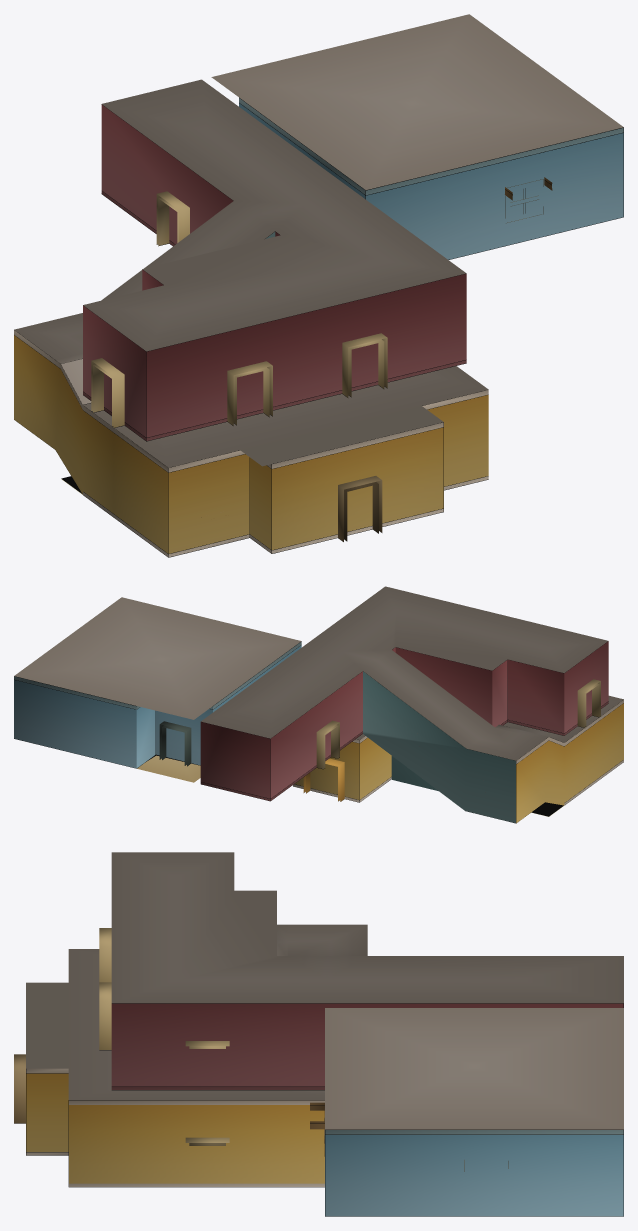
The model's file is Kyle House.fbx.
3 views of the same model, one above another, from view 1: azimuth 30°, elevation 25°; view 2: azimuth 150°, elevation 25°; view 3: azimuth 270°, elevation 25° (orthographic). The views are drawn at different scales.
Parts seen in each view (by area): view 1: A1_floor2_ceiling_geo, A1_floor2_geo, A1_floor1_geo, A1_floor1_ceiling_geo; view 2: A1_floor2_ceiling_geo, A1_floor2_geo, A1_floor1_geo, A1_floor1_ceiling_geo; view 3: A1_floor2_ceiling_geo, A1_floor2_geo, A1_floor1_geo, A1_floor1_ceiling_geo.
Boxes of the visible parts, bbox=[...] form: A1_floor2_ceiling_geo: bbox=[14, 14, 623, 359]; A1_floor2_geo: bbox=[83, 97, 623, 441]; A1_floor1_geo: bbox=[14, 330, 488, 557]; A1_floor1_ceiling_geo: bbox=[56, 353, 488, 467]; A1_floor2_ceiling_geo: bbox=[14, 586, 607, 760]; A1_floor2_geo: bbox=[14, 641, 608, 823]; A1_floor1_geo: bbox=[293, 699, 623, 823]; A1_floor1_ceiling_geo: bbox=[356, 695, 623, 742]; A1_floor2_ceiling_geo: bbox=[111, 852, 623, 1129]; A1_floor2_geo: bbox=[99, 928, 623, 1216]; A1_floor1_geo: bbox=[14, 1054, 324, 1187]; A1_floor1_ceiling_geo: bbox=[26, 924, 324, 1099].
Bounding box in the file's own units: 7641 × 2268 × 6820.
